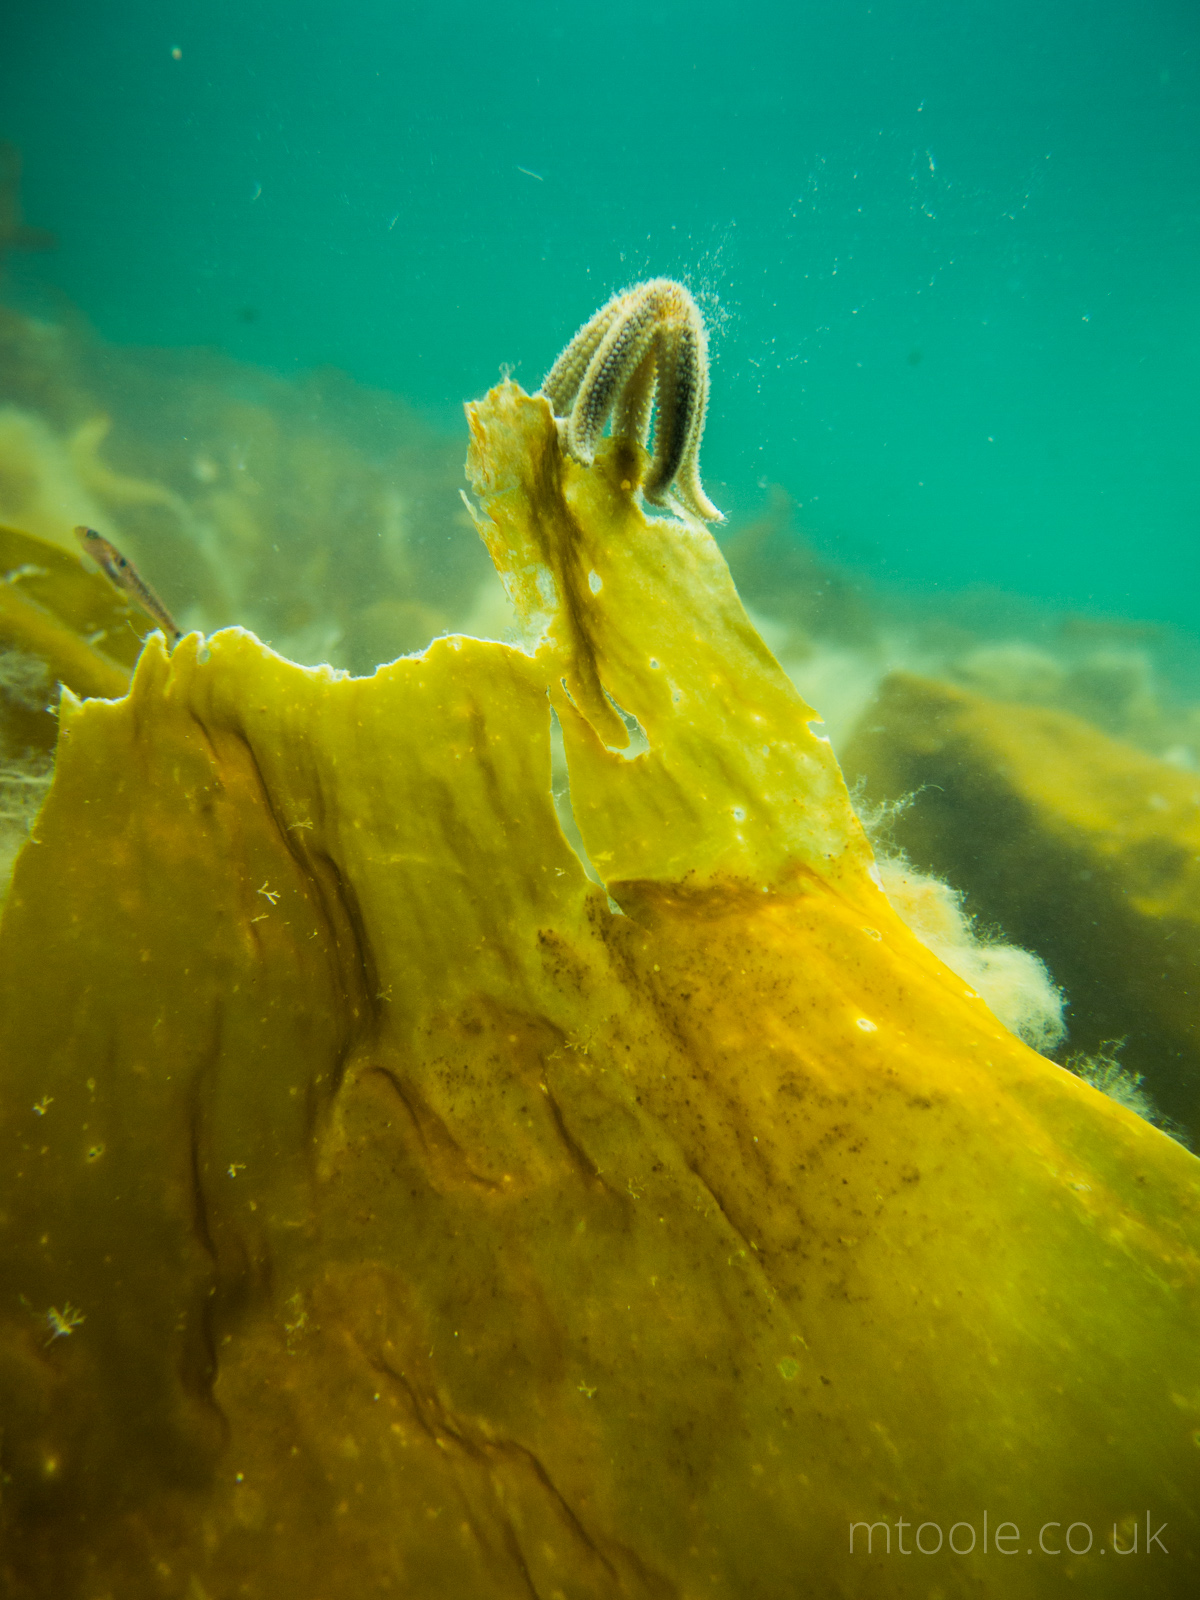starfish: (487, 236, 756, 518)
